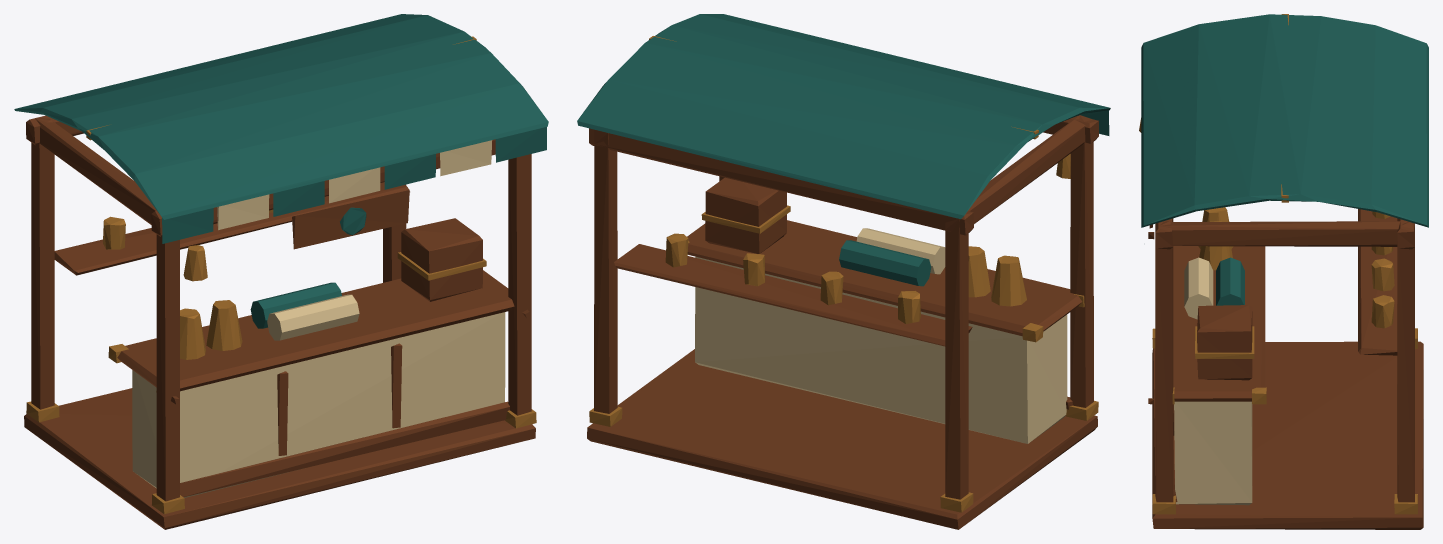
File: vendor_stall_lod1.obj
3 views of the same model, side by side, from view 1: azimuth 30°, elevation 25°; view 2: azimuth 150°, elevation 25°; view 3: azimuth 270°, elevation 25° (orthographic). The views are drawn at different scales.
Parts seen in each view (by area): view 1: vendor_stall_lod1; view 2: vendor_stall_lod1; view 3: vendor_stall_lod1.
Boxes of the visible parts, x1,y1,x2,y2 form: vendor_stall_lod1: [14, 14, 548, 529]; vendor_stall_lod1: [577, 14, 1110, 529]; vendor_stall_lod1: [1139, 14, 1428, 529].
Bounding box in the file's own units: 3 × 2.6 × 2.01.
